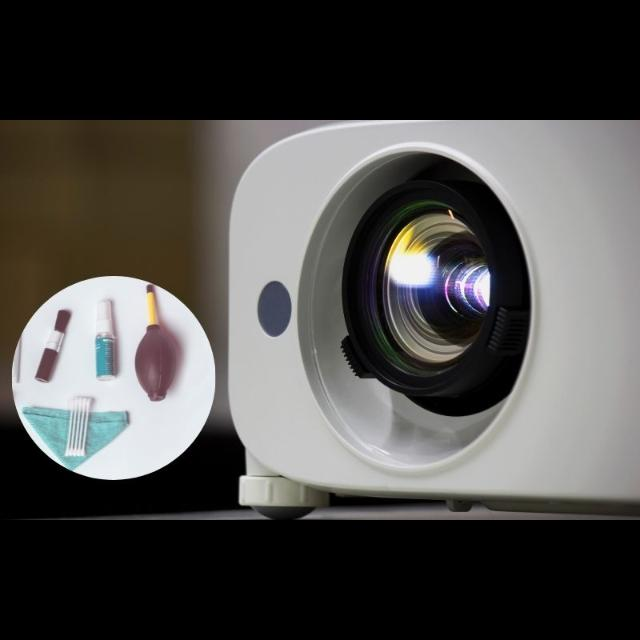Projector: (225, 120, 640, 518)
